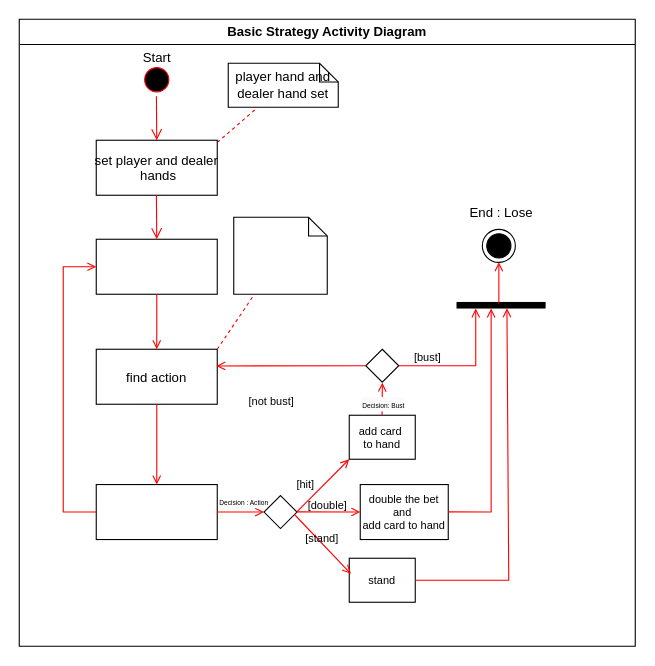
Image size: 655x666. Some labels were removed from this diagram. Each missing label, with the box of its shape:
check basic strategy chart: (95, 483, 217, 540)
finding player hand value and dealer up card value: (233, 216, 327, 294)
start simulate game: (95, 238, 217, 294)
